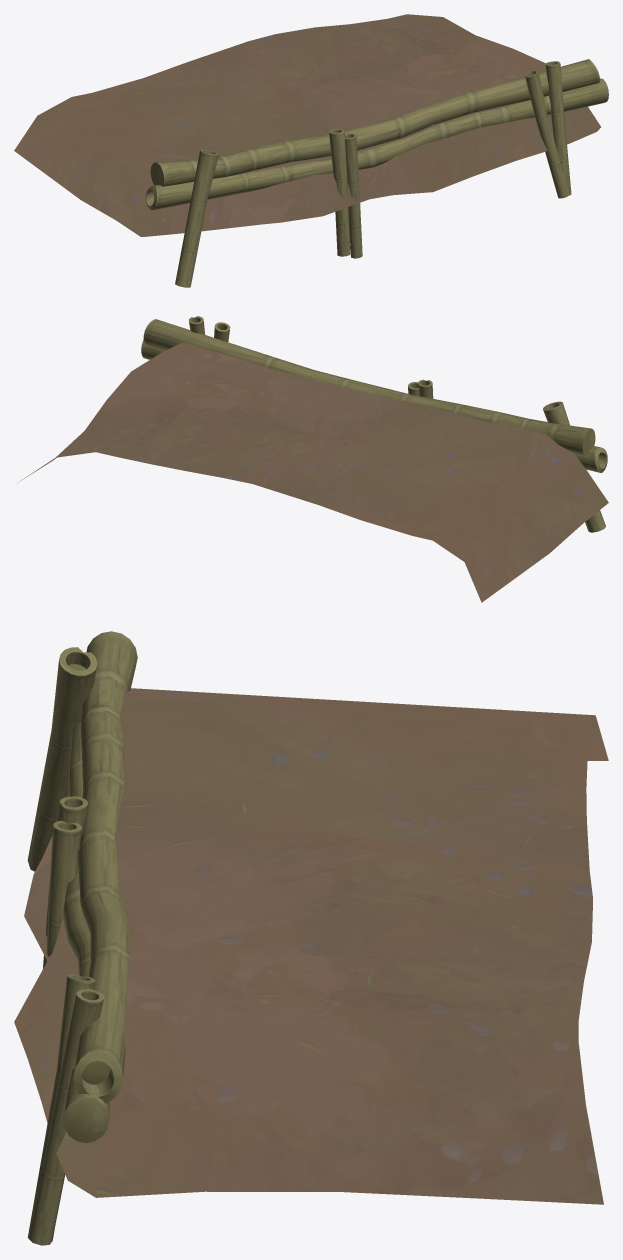
Rendered from SM_EastLands_BambooStep_02.fbx.
3 renders of one model, top to bottom at view 1: azimuth 30°, elevation 25°; view 2: azimuth 150°, elevation 25°; view 3: azimuth 270°, elevation 25°, orthographic. The views are drawn at different scales.
Visible parts, largest first — view 1: SM_EastLands_BambooStep_02_LOD0; view 2: SM_EastLands_BambooStep_02_LOD0; view 3: SM_EastLands_BambooStep_02_LOD0.
Part boxes in pixels (x1=…): SM_EastLands_BambooStep_02_LOD0: x1=14, y1=14, x2=608, y2=287; SM_EastLands_BambooStep_02_LOD0: x1=18, y1=316, x2=608, y2=602; SM_EastLands_BambooStep_02_LOD0: x1=14, y1=631, x2=608, y2=1245.
Size of the model in its own units: 401 by 114 by 224.
